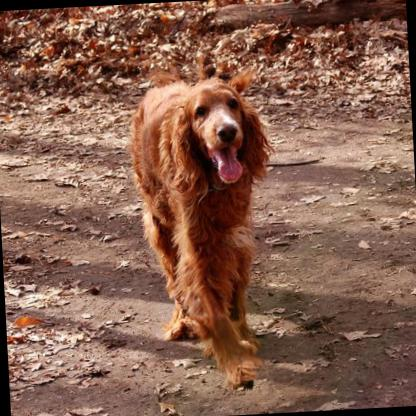Irish_setter: (126, 70, 284, 394)
